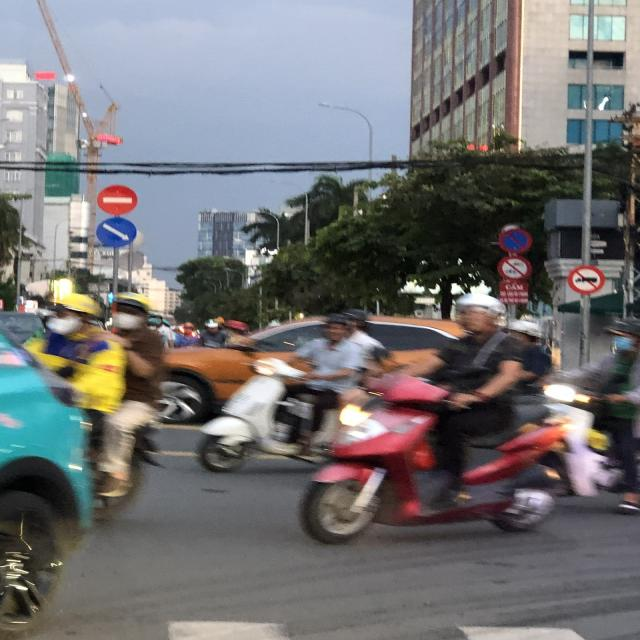Bien bao cam di nguoc chieu: (94, 183, 140, 215)
Bien bao cam do xe: (494, 225, 533, 255)
Bien bao cam xe so-mi ro-mooc: (564, 259, 608, 299)
Bien bao huong phai di vong chuong ngai vat: (94, 215, 138, 247)
